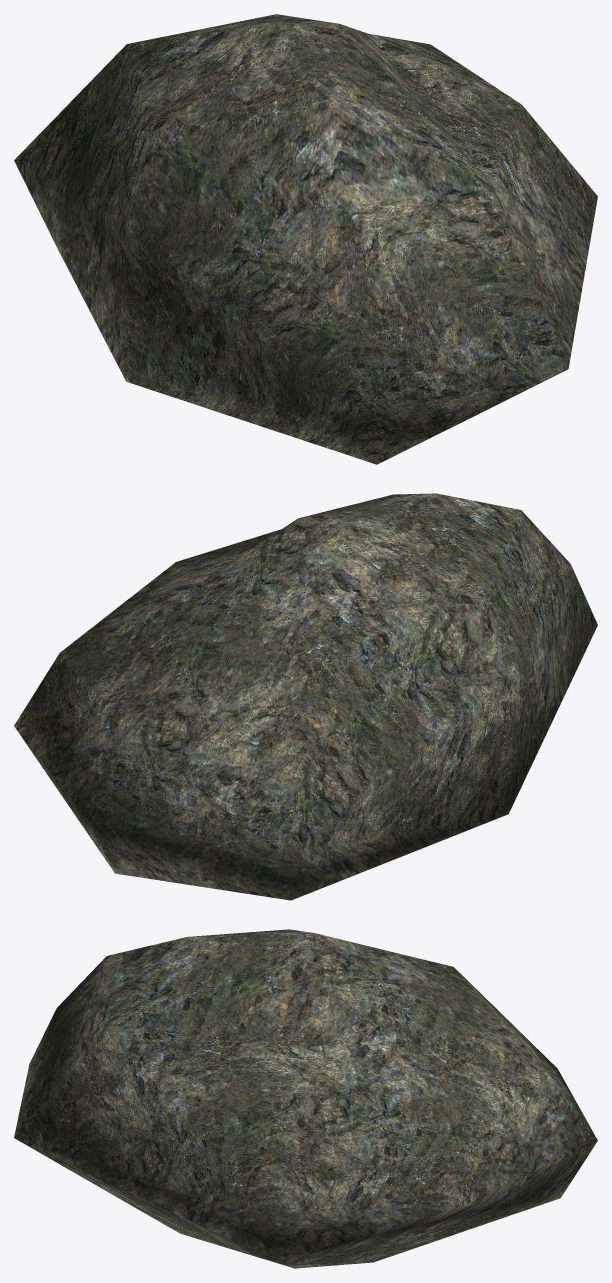
The model's file is mtns_rock_grey_a12_l1.fbx.
3 views of the same model, one above another, from view 1: azimuth 30°, elevation 25°; view 2: azimuth 150°, elevation 25°; view 3: azimuth 270°, elevation 25° (orthographic). The views are drawn at different scales.
Visible parts, largest first — view 1: mesh_node; view 2: mesh_node; view 3: mesh_node.
Part boxes in pixels (x1=…): mesh_node: x1=14, y1=14, x2=597, y2=464; mesh_node: x1=14, y1=493, x2=597, y2=900; mesh_node: x1=14, y1=929, x2=597, y2=1268.
Bounding box in the file's own units: 1.56 × 1.15 × 2.22.
1 material, 1 textured.
